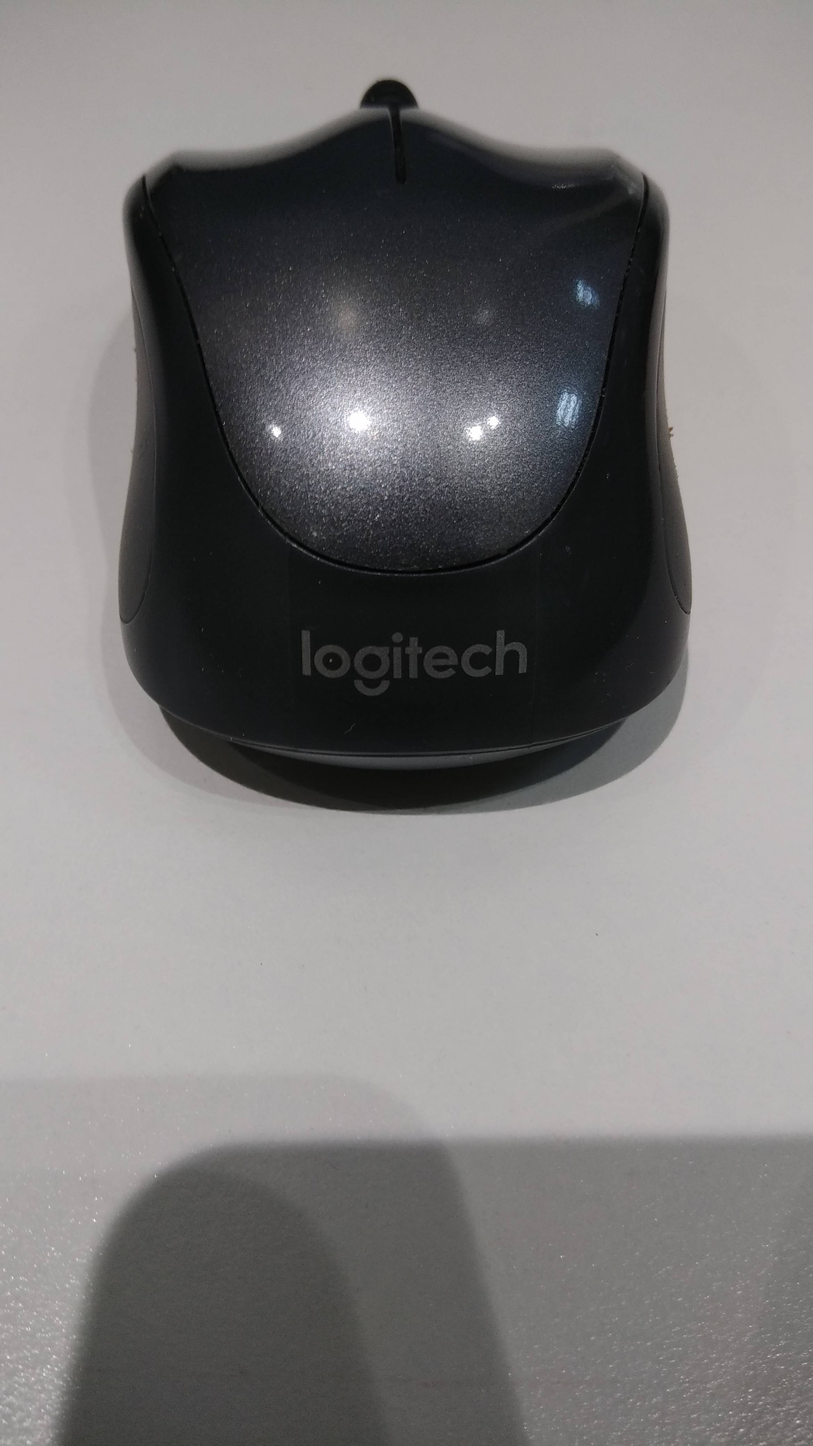Electronics: (92, 55, 720, 842)
